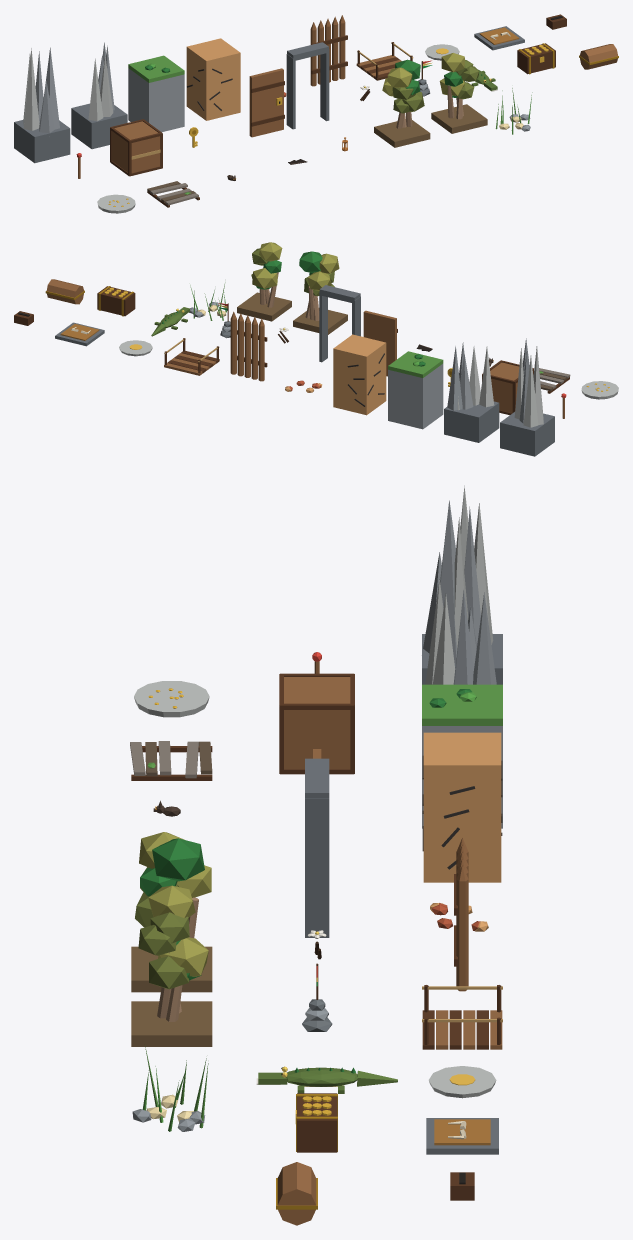
File: miaraka.glb
3 views of the same model, one above another, from view 1: azimuth 30°, elevation 25°; view 2: azimuth 150°, elevation 25°; view 3: azimuth 270°, elevation 25° (orthographic). The views are drawn at different scales.
Parts seen in each view (by area): view 1: cracked, wall_a, ledge, bush_a, wall_b, bush_b, crate, door, door_frame, gate, chest_base, bridge (+6 smaller); view 2: cracked, ledge, wall_b, wall_a, bush_b, bush_a, gate, door_frame, crate, door, bridge, chest_base (+7 smaller); view 3: cracked, bush_b, crate, wall_a, bush_a, wall_b, door_frame, ledge, bridge, planks, heavy_plate, chest_base (+6 smaller).
Part boxes in pixels (bbox=[...]): cracked: bbox=[186, 38, 240, 120]; wall_a: bbox=[14, 47, 70, 163]; ledge: bbox=[128, 55, 184, 132]; bush_a: bbox=[374, 59, 430, 147]; wall_b: bbox=[71, 42, 127, 149]; bush_b: bbox=[431, 53, 487, 133]; crate: bbox=[110, 119, 162, 176]; door: bbox=[249, 68, 284, 137]; door_frame: bbox=[286, 42, 329, 129]; gate: bbox=[310, 15, 347, 86]; chest_base: bbox=[517, 43, 555, 74]; bridge: bbox=[356, 42, 413, 80]; cracked: bbox=[333, 334, 386, 415]; ledge: bbox=[388, 351, 443, 429]; wall_b: bbox=[444, 342, 499, 442]; wall_a: bbox=[500, 338, 554, 456]; bush_b: bbox=[237, 242, 291, 321]; bush_a: bbox=[293, 251, 347, 334]; gate: bbox=[230, 311, 267, 381]; door_frame: bbox=[319, 285, 360, 362]; crate: bbox=[482, 360, 533, 415]; door: bbox=[363, 310, 397, 376]; bridge: bbox=[164, 338, 219, 375]; chest_base: bbox=[97, 286, 135, 316]; cracked: bbox=[422, 732, 502, 882]; bush_b: bbox=[131, 885, 212, 1046]; crate: bbox=[279, 673, 354, 774]; wall_a: bbox=[422, 485, 502, 684]; bush_a: bbox=[131, 832, 212, 992]; wall_b: bbox=[425, 579, 496, 684]; door_frame: bbox=[305, 758, 329, 937]; ledge: bbox=[422, 684, 502, 828]; bridge: bbox=[422, 985, 502, 1049]; planks: bbox=[130, 741, 212, 780]; heavy_plate: bbox=[426, 1118, 498, 1154]; chest_base: bbox=[295, 1093, 337, 1152].
Size of the model in its own units: 15.31 by 3.34 by 4.62.
